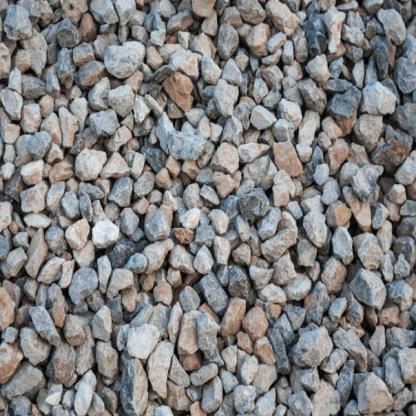Sedimentary_Limestone: (117, 302, 167, 356), (98, 42, 145, 84), (262, 2, 301, 41), (76, 146, 114, 180), (64, 269, 98, 306), (0, 84, 26, 130), (213, 18, 242, 58), (271, 139, 303, 175), (92, 214, 120, 252), (51, 342, 76, 384), (64, 217, 90, 256), (144, 204, 173, 238), (17, 331, 50, 360), (243, 26, 271, 59), (0, 285, 16, 335), (247, 106, 279, 130), (209, 174, 239, 199)
